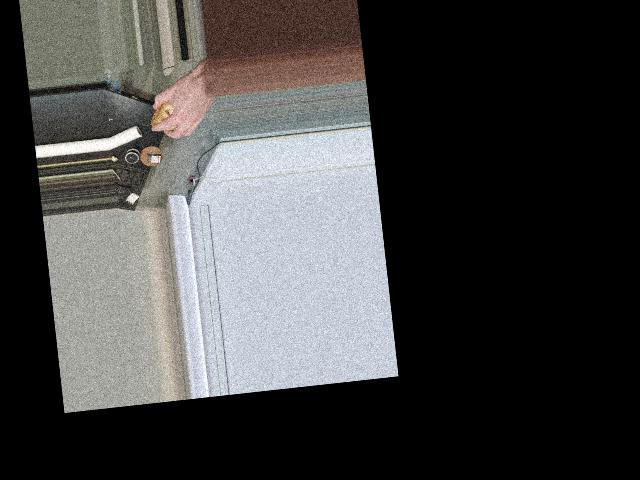onion: (146, 91, 193, 132)
